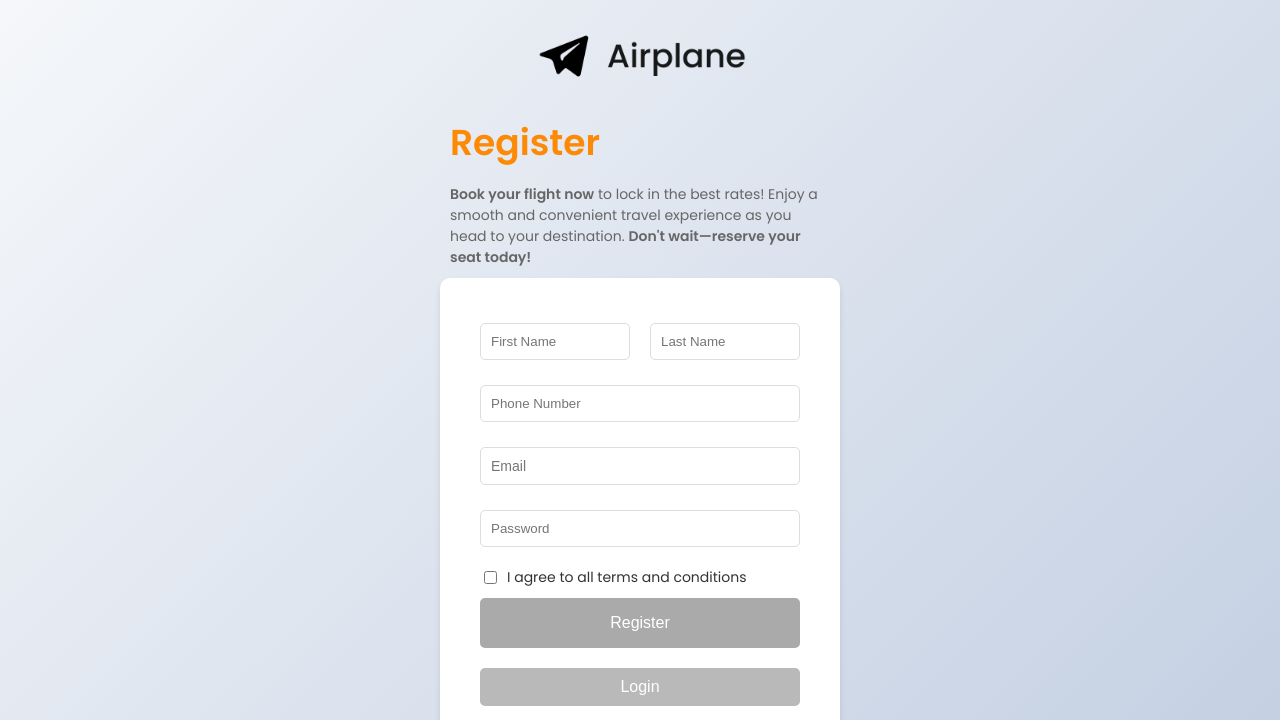
it: SignUp Component › disables register button until terms are accepted
The width and height of the screenshot is (1280, 720).
Expected: the button "Register" is disabled, [480,598,800,648]
Click the checkbox.
click(490, 578)  # box [484,572,497,584]
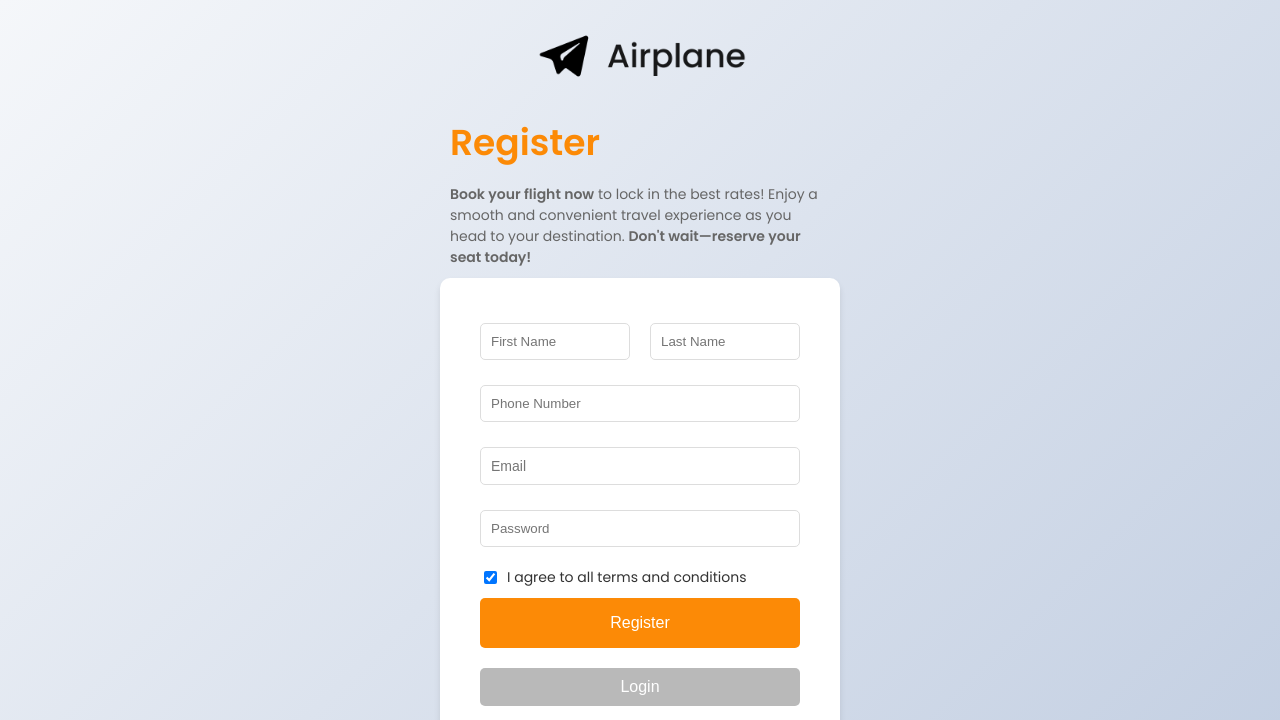
Expected: the button "Register" is enabled, [480,598,800,648]
